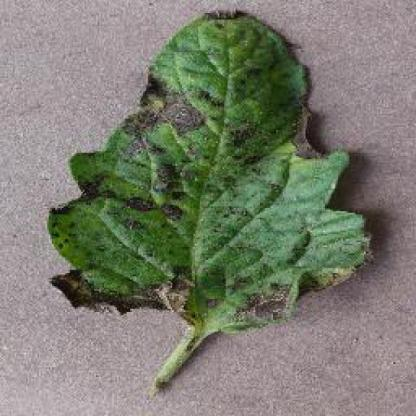Tomato_Blight: (48, 11, 370, 328)
